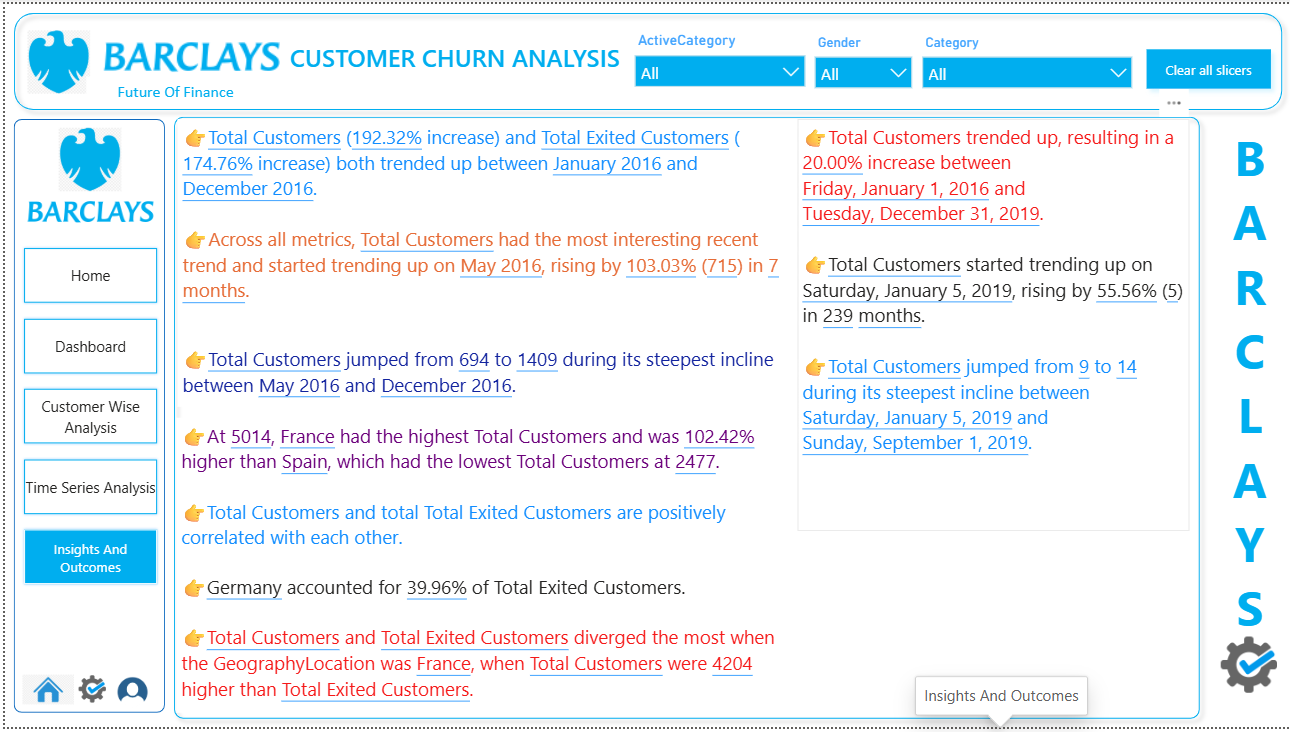

The dashboard page shown, as its layout file describes it:
{"tool":"powerbi","page":{"name":"Insights And Outcomes","canvas":[1280,720],"ordinal":5},"visuals":[{"type":"shape","box":[0,0,1280,114.4],"z":0,"group":"g1"},{"type":"shape","box":[159.2,103.2,1038.7,617],"z":0},{"type":"shape","box":[8.7,114.4,150.5,590.9],"z":0,"group":"g2"},{"type":"group","id":"g1","title":"Group 1","box":[0,0,1280,114.4],"z":1000},{"type":"image","box":[98.3,26.1,175.4,53.5],"z":1000,"group":"g1"},{"type":"image","box":[22.4,186.5,125.6,41.1],"z":1000,"group":"g2"},{"type":"image","box":[8.7,26.1,89.6,63.4],"z":2000,"group":"g1"},{"type":"textbox","box":[1197.9,114.4,82.1,529.9],"z":2000},{"type":"image","box":[39.8,123.1,89.6,63.4],"z":2000,"group":"g2"},{"type":"textbox","box":[273.7,32.3,348.3,43.5],"z":3000,"group":"g1"},{"type":"pageNavigator","box":[16.2,240,138.1,343.3],"z":3000,"group":"g2"},{"type":"image","box":[1206.6,629.4,62.2,56],"z":3000},{"type":"textbox","box":[80.9,72.1,177.9,31.1],"z":4000,"group":"g1"},{"type":"textbox","box":[171.7,114.4,618.2,286.1],"z":4000},{"type":"image","box":[68.4,668,37.3,27.4],"z":4000,"group":"g2"},{"type":"slicer","fields":{"Values":["DIM_Active_Customer.ActiveCategory"]},"box":[622,22.4,179.1,63.4],"z":5000,"group":"g1"},{"type":"textbox","box":[170.4,411.8,618.2,293.6],"z":5000},{"type":"image","box":[17.4,661.7,51,41.1],"z":5000,"group":"g2"},{"type":"slicer","fields":{"Values":["DIM_Gender.GenderCategory"]},"box":[801.1,26.1,107,77.1],"z":6000,"group":"g1"},{"type":"textbox","box":[788.7,114.4,390.6,410.5],"z":6000},{"type":"image","box":[105.7,668,42.3,33.6],"z":6000,"group":"g2"},{"type":"slicer","fields":{"Values":["DIM_Credit_Card.Category"]},"box":[908.1,26.1,218.9,77.1],"z":7000,"group":"g1"},{"type":"group","id":"g2","title":"Group 2","box":[8.7,114.4,150.5,590.9],"z":7000},{"type":"actionButton","box":[1127,36.1,141.8,57.2],"z":8000,"group":"g1"}]}

Visuals, with their boxes in screenshot pixels (x1, y1, x2, y2), scaled from the page's 1280x720 canvas onto the 1290x732 screenshot:
shape: (0, 0, 1289, 116)
shape: (160, 105, 1207, 731)
shape: (9, 116, 160, 717)
"Group 1" group: (0, 0, 1289, 116)
image: (99, 27, 276, 81)
image: (23, 190, 149, 231)
image: (9, 27, 99, 91)
textbox: (1207, 116, 1289, 655)
image: (40, 125, 130, 190)
textbox: (276, 33, 627, 77)
pageNavigator: (16, 244, 156, 593)
image: (1216, 640, 1279, 697)
textbox: (82, 73, 261, 105)
textbox: (173, 116, 796, 407)
image: (69, 679, 107, 707)
slicer - DIM_Active_Customer.ActiveCategory: (627, 23, 807, 87)
textbox: (172, 419, 795, 717)
image: (18, 673, 69, 715)
slicer - DIM_Gender.GenderCategory: (807, 27, 915, 105)
textbox: (795, 116, 1189, 534)
image: (107, 679, 149, 713)
slicer - DIM_Credit_Card.Category: (915, 27, 1136, 105)
"Group 2" group: (9, 116, 160, 717)
actionButton: (1136, 37, 1279, 95)
